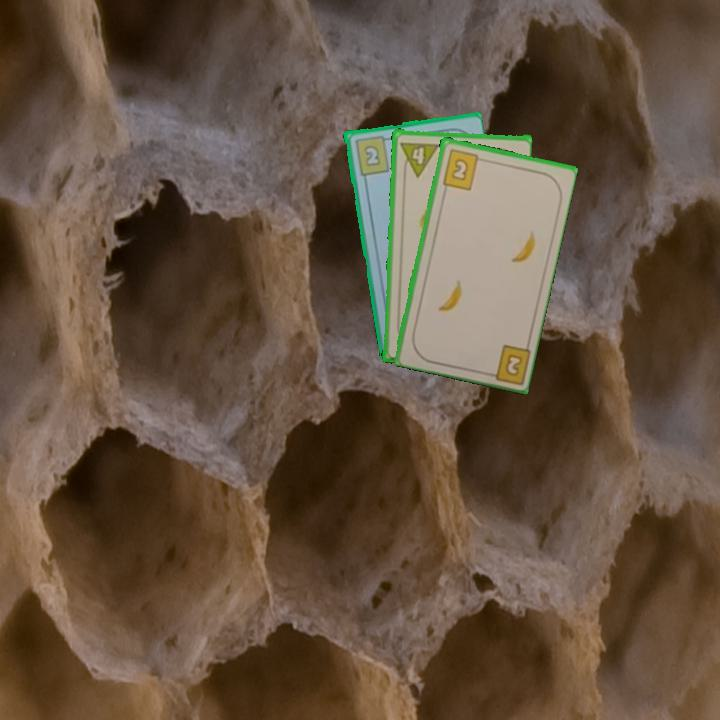2b: (438, 145, 487, 192), (481, 341, 532, 385), (351, 132, 393, 178)
4p: (396, 138, 440, 178)
